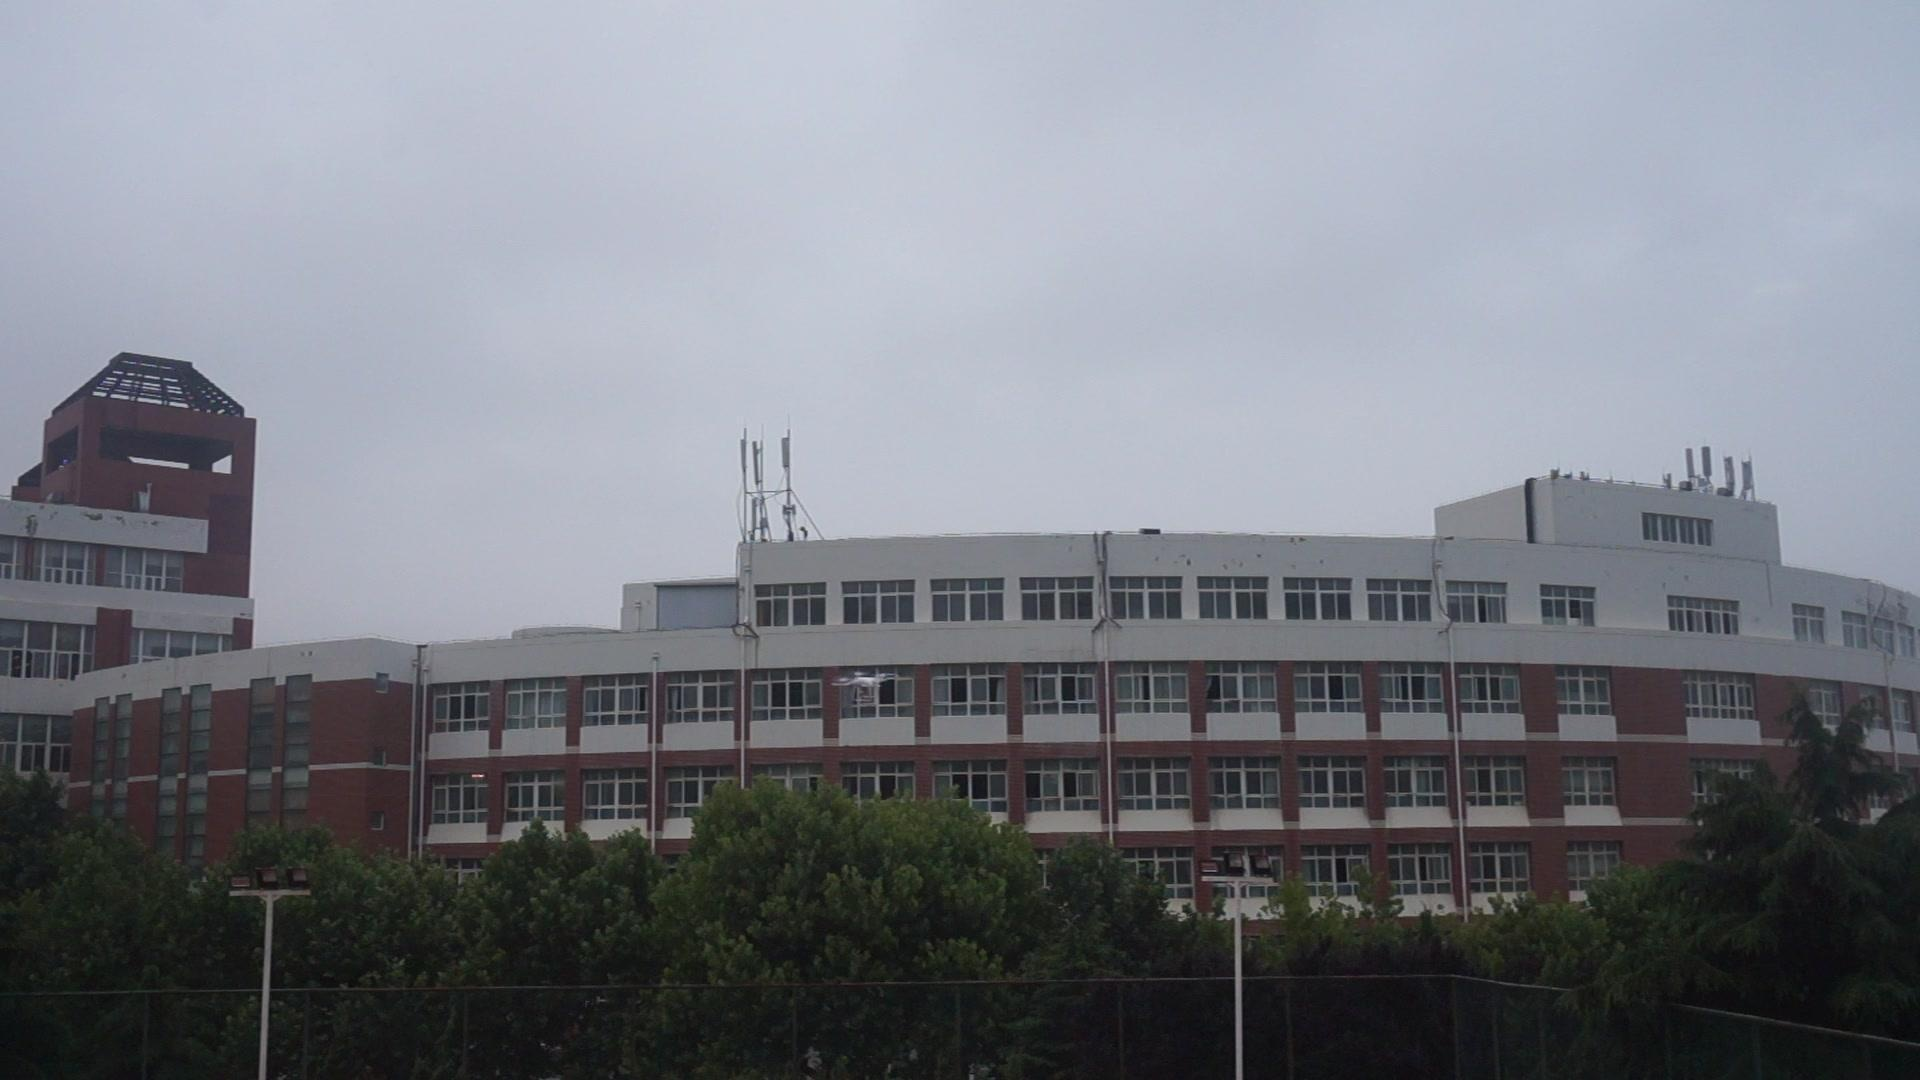UAV: (833, 673, 897, 702)
